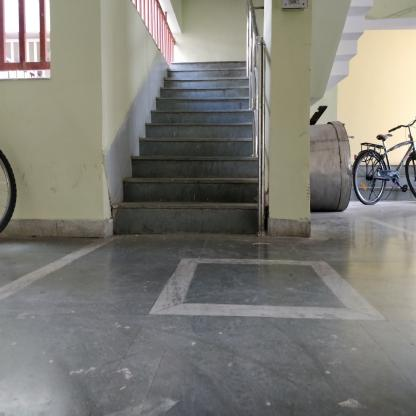stairs: (173, 59, 247, 242)
